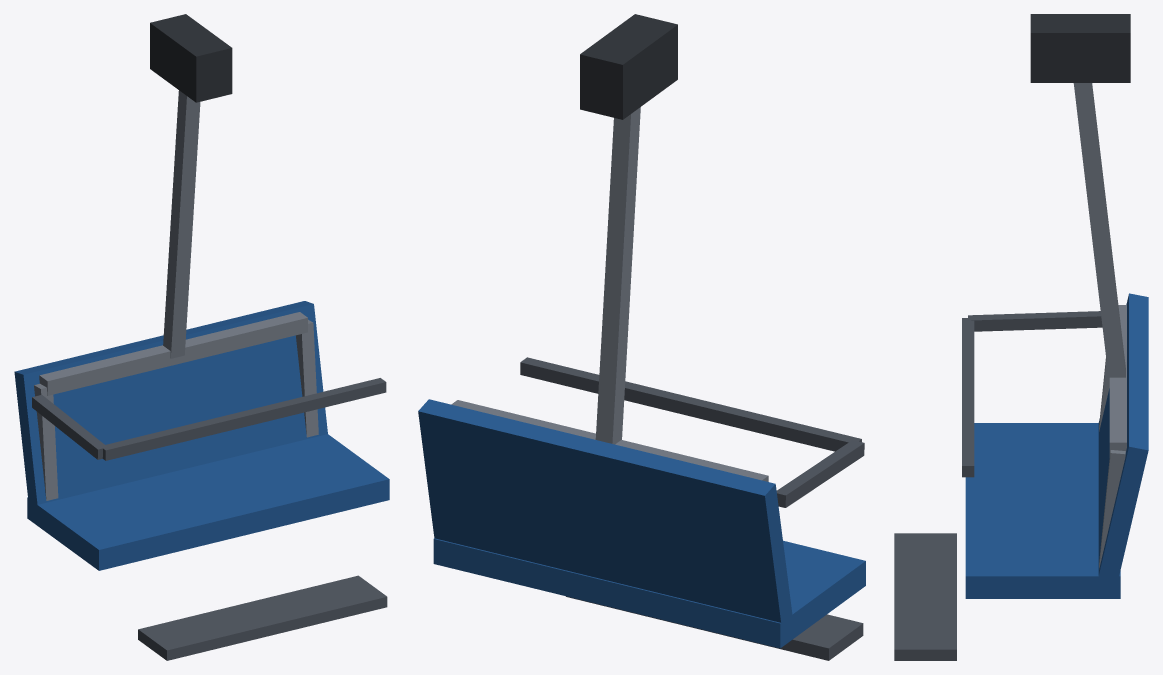
File: lift-chair.glb
3 views of the same model, side by side, from view 1: azimuth 30°, elevation 25°; view 2: azimuth 150°, elevation 25°; view 3: azimuth 270°, elevation 25° (orthographic). The views are drawn at different scales.
Visible parts, largest first — view 1: lift-chair; view 2: lift-chair; view 3: lift-chair.
Boxes of the visible parts, x1,y1,x2,y2 form: lift-chair: [14, 14, 389, 660]; lift-chair: [418, 14, 865, 660]; lift-chair: [894, 14, 1148, 660].
Size of the model in its own units: 1.45 by 2.56 by 1.02.
